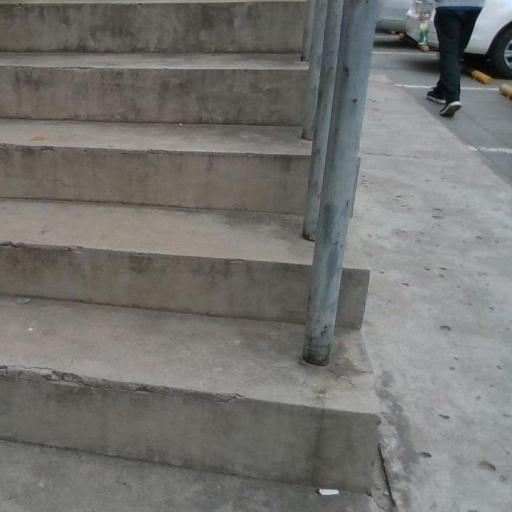stairs: (0, 0, 377, 492)
